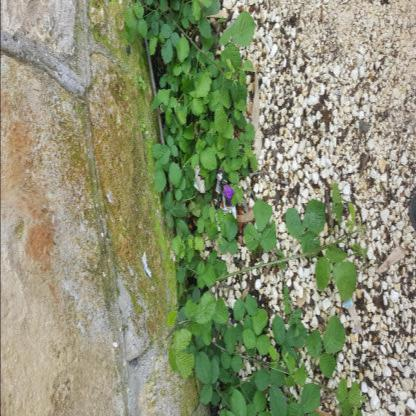Plastic bag - wrapper: (211, 166, 236, 231), (193, 166, 206, 194), (342, 300, 354, 308), (194, 130, 199, 142)
Unlabeled litter: (142, 252, 152, 278)
